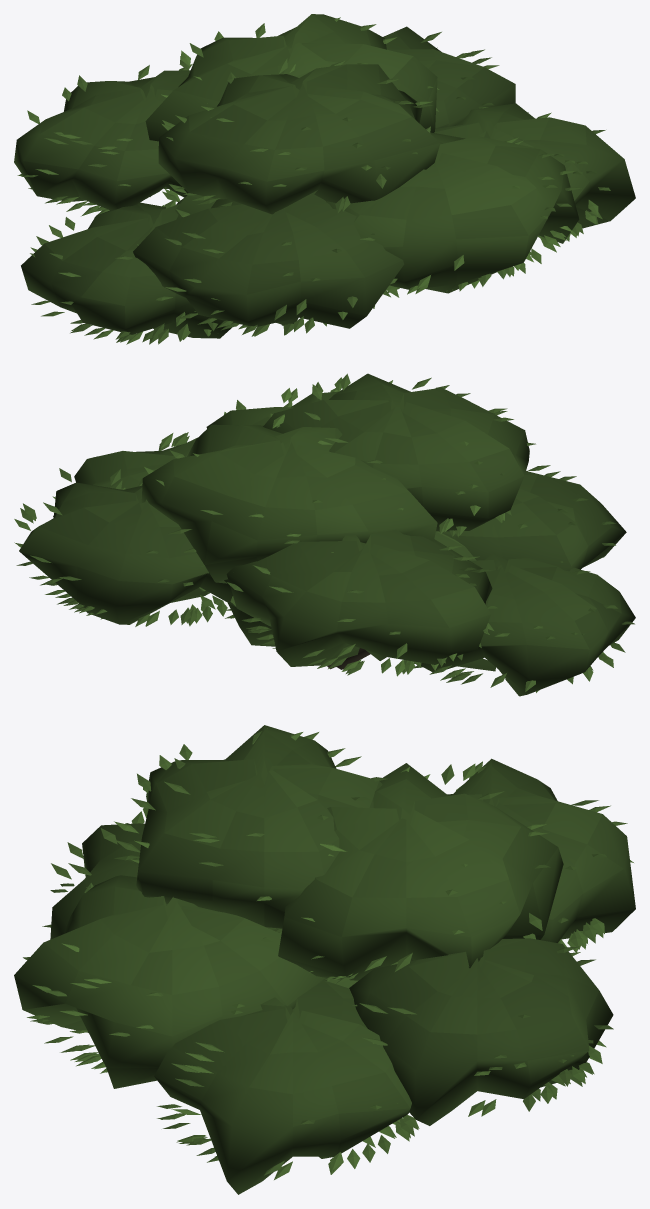
Rendered from strange_root_crown.glb.
3 views of the same model, one above another, from view 1: azimuth 30°, elevation 25°; view 2: azimuth 150°, elevation 25°; view 3: azimuth 270°, elevation 25° (orthographic). The views are drawn at different scales.
Parts seen in each view (by area): view 1: strange_root_crown; view 2: strange_root_crown; view 3: strange_root_crown.
Boxes of the visible parts, left/top/right/bottom form: strange_root_crown: left=14, top=14, right=635, bottom=344; strange_root_crown: left=14, top=373, right=635, bottom=696; strange_root_crown: left=14, top=725, right=635, bottom=1194.
Bounding box in the file's own units: 11.2 × 4.88 × 8.76.
